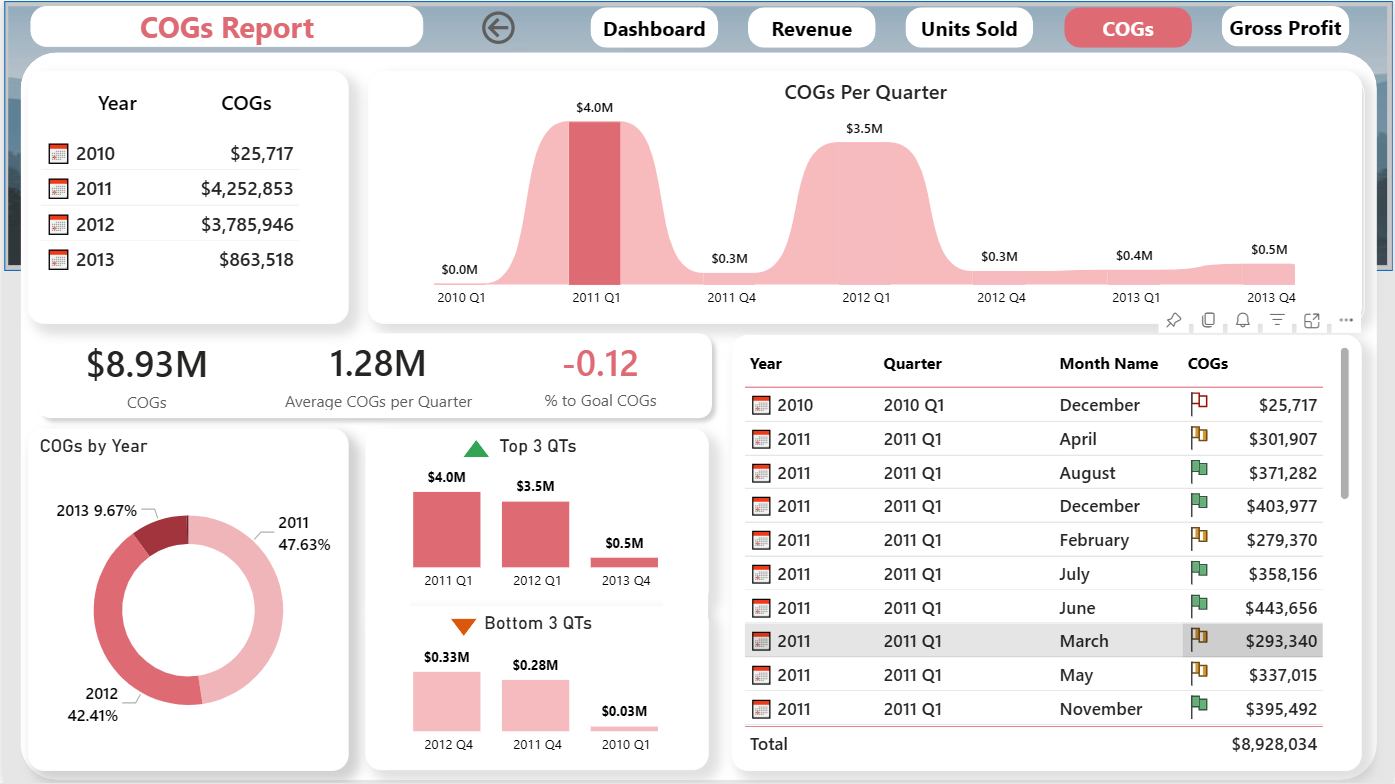

Layout of this report page (visuals, bound fields, positions):
{"tool":"powerbi","page":{"name":"COGs","canvas":[1280,720],"ordinal":3},"visuals":[{"type":"group","id":"g1","title":"Image","box":[0,0,1279.5,248.2],"z":0},{"type":"image","box":[0,0,1279.2,248.8],"z":0,"group":"g1"},{"type":"actionButton","title":"Dashboard Button","box":[541.1,5.9,117.5,37.4],"z":0,"group":"g4"},{"type":"ribbonChart","title":"COGs Per Quarter","fields":{"Category":["Calendar.Quarter"],"Y":["_Measures.Cost"]},"box":[336.5,64,914.9,232.4],"z":0,"group":"g3"},{"type":"columnChart","title":"Top 3 QTs","fields":{"Category":["Calendar.Quarter"],"Y":["_Measures.Cost"]},"box":[333.8,393.8,316.2,163.6],"z":0,"group":"g2"},{"type":"shape","box":[1.3,0,1278.7,248.6],"z":1000,"group":"g1"},{"type":"actionButton","title":"Revenue Button","box":[686.3,6,117.5,37.4],"z":1000,"group":"g4"},{"type":"shape","box":[16,47,1249,670],"z":1000},{"type":"columnChart","title":"Column","fields":{"Category":["Calendar.Quarter"],"Y":["_Measures.Cost"]},"box":[336,70,917.8,227],"z":1000,"group":"g3"},{"type":"columnChart","title":"Bottom 3 QTs","fields":{"Category":["Calendar.Quarter"],"Y":["_Measures.Cost"]},"box":[333.8,557.7,316.2,151.1],"z":1000,"group":"g2"},{"type":"actionButton","title":"Units Sold Button","box":[831.6,6.1,117.5,37.4],"z":2000,"group":"g4"},{"type":"donutChart","fields":{"Category":["Calendar.Year"],"Y":["_Measures.Cost"]},"box":[22.5,393.8,295,315],"z":2000},{"type":"shape","box":[423.3,404,24.4,16.2],"z":2000,"group":"g2"},{"type":"actionButton","title":"Gross Profit Button","box":[1122,4.8,117.5,37.4],"z":3000,"group":"g4"},{"type":"group","id":"g2","title":"Small Columns","box":[333.8,393.8,316.2,315],"z":3000},{"type":"shape","box":[411.7,568.9,24.4,16.2],"z":3000,"group":"g2"},{"type":"actionButton","title":"COGs Button","box":[976.8,6.1,117.5,37.4],"z":4000,"group":"g4"},{"type":"group","id":"g3","title":"New Chart","box":[336,64,917.8,233],"z":4000},{"type":"shape","box":[608.2,545.4,41.5,30],"z":4000,"group":"g2"},{"type":"shape","title":"Shape for cards","box":[22.5,297.5,638.8,96.2],"z":5000},{"type":"shape","title":"White Block","box":[333.8,538.9,40.7,30],"z":5000,"group":"g2"},{"type":"tableEx","fields":{"Values":["Calendar.Year with icon","Calendar.Quarter","Calendar.Month Name","_Measures.Cost"]},"box":[670.8,306.9,580.2,401.9],"z":6000},{"type":"card","fields":{"Values":["_Measures.COGs"]},"box":[33.8,306.2,198.8,76.2],"z":7000},{"type":"card","fields":{"Values":["_Measures.Average COGs per Quarter"]},"box":[233.7,308.2,225.1,74.6],"z":8000},{"type":"card","fields":{"Values":["_Measures.% to Goal COGs"]},"box":[458.8,308.8,182.5,73.8],"z":9000},{"type":"tableEx","fields":{"Values":["Calendar.Year with icon","_Measures.Cost"]},"box":[22.5,65,295,232.5],"z":10000},{"type":"group","id":"g4","title":"Group 1","box":[541.1,4.8,698.5,38.7],"z":11000},{"type":"actionButton","box":[435.8,4.8,43.6,39.9],"z":12000},{"type":"textbox","box":[25.4,4.8,361.9,37.5],"z":13000}]}

Visuals, with their boxes in screenshot pixels (x1, y1, x2, y2), scaled from the page's 1280x720 canvas onto the 1395x784 screenshot:
"Image" group: Rect(0, 0, 1394, 270)
image: Rect(0, 0, 1394, 271)
"Dashboard Button" actionButton: Rect(590, 6, 718, 47)
"COGs Per Quarter" ribbonChart: Rect(367, 70, 1364, 323)
"Top 3 QTs" columnChart: Rect(364, 429, 708, 607)
shape: Rect(1, 0, 1394, 271)
"Revenue Button" actionButton: Rect(748, 7, 876, 47)
shape: Rect(17, 51, 1379, 781)
"Column" columnChart: Rect(366, 76, 1366, 323)
"Bottom 3 QTs" columnChart: Rect(364, 607, 708, 772)
"Units Sold Button" actionButton: Rect(906, 7, 1034, 47)
donutChart - Calendar.Year x _Measures.Cost: Rect(25, 429, 346, 772)
shape: Rect(461, 440, 488, 458)
"Gross Profit Button" actionButton: Rect(1223, 5, 1351, 46)
"Small Columns" group: Rect(364, 429, 708, 772)
shape: Rect(449, 619, 475, 637)
"COGs Button" actionButton: Rect(1065, 7, 1193, 47)
"New Chart" group: Rect(366, 70, 1366, 323)
shape: Rect(663, 594, 708, 627)
"Shape for cards" shape: Rect(25, 324, 721, 429)
"White Block" shape: Rect(364, 587, 408, 619)
tableEx - Calendar.Year with icon x Calendar.Quarter: Rect(731, 334, 1363, 772)
card - _Measures.COGs: Rect(37, 333, 253, 416)
card - _Measures.Average COGs per Quarter: Rect(255, 336, 500, 417)
card - _Measures.% to Goal COGs: Rect(500, 336, 699, 417)
tableEx - Calendar.Year with icon x _Measures.Cost: Rect(25, 71, 346, 324)
"Group 1" group: Rect(590, 5, 1351, 47)
actionButton: Rect(475, 5, 522, 49)
textbox: Rect(28, 5, 422, 46)
